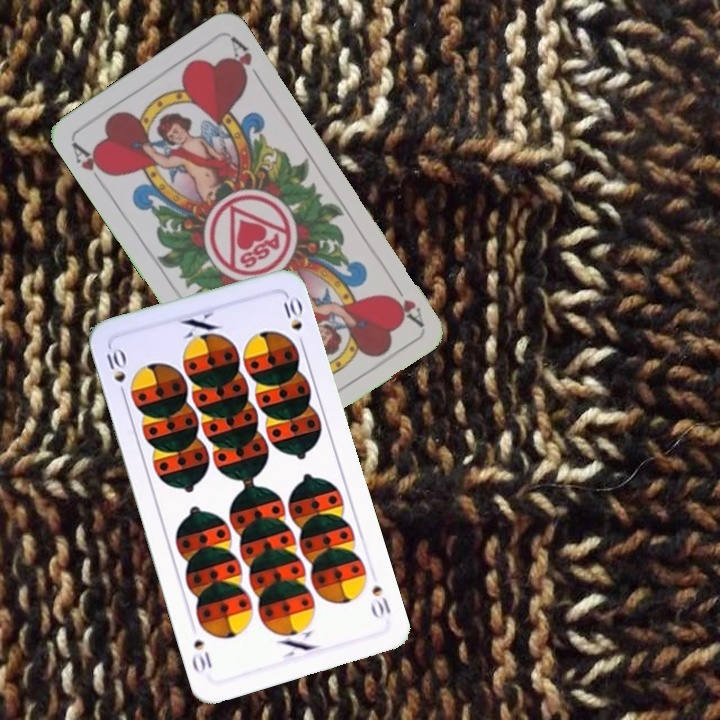HA: (67, 138, 114, 191), (386, 274, 426, 328)
S10: (102, 343, 129, 401), (367, 581, 394, 621)
